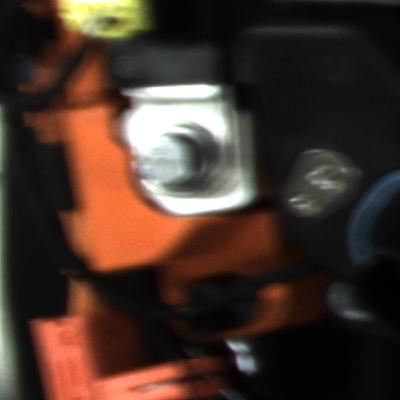nut_b: (128, 118, 242, 204)
